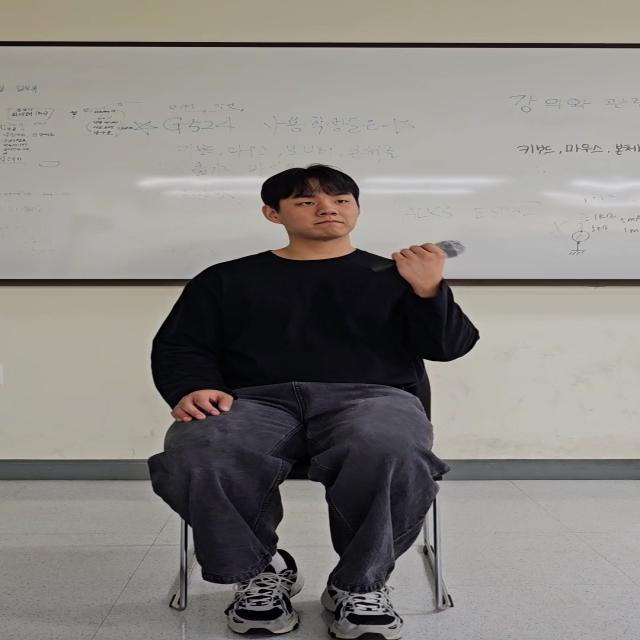curl: (368, 258, 495, 364)
